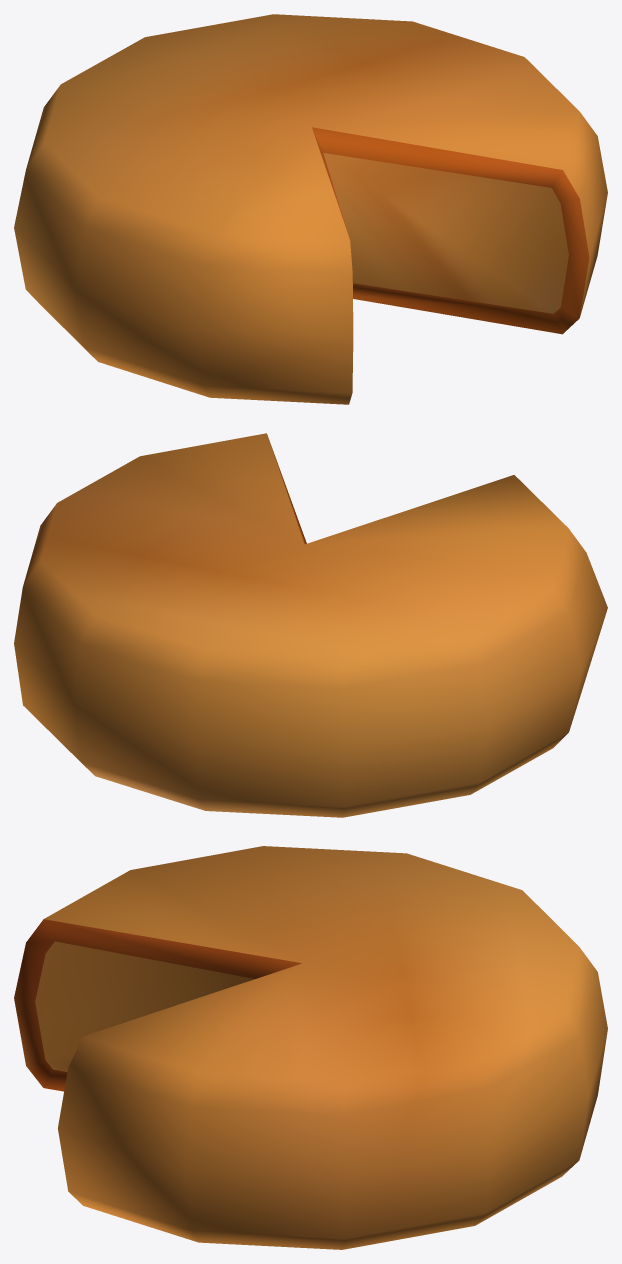
Rendered from Cheese_3.fbx.
3 views of the same model, one above another, from view 1: azimuth 30°, elevation 25°; view 2: azimuth 150°, elevation 25°; view 3: azimuth 270°, elevation 25° (orthographic). The views are drawn at different scales.
Parts seen in each view (by area): view 1: Cheese_3; view 2: Cheese_3; view 3: Cheese_3.
Part boxes in pixels (box(x1,y1,x2,y2)): Cheese_3: box(14, 14, 607, 404); Cheese_3: box(14, 433, 607, 817); Cheese_3: box(14, 846, 607, 1249).
Size of the model in its own units: 0.5441 by 0.1668 by 0.5268.
